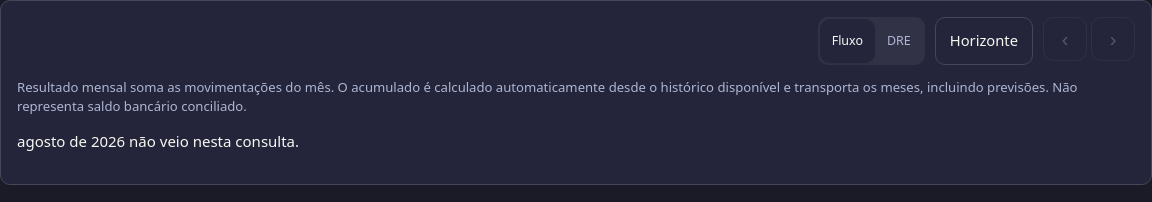
Test: nenhum fechamento mostra estado próprio sem DRE zerada ou seletor aberto
Click the button "DRE".
click(899, 41)  # box [875,19,923,63]
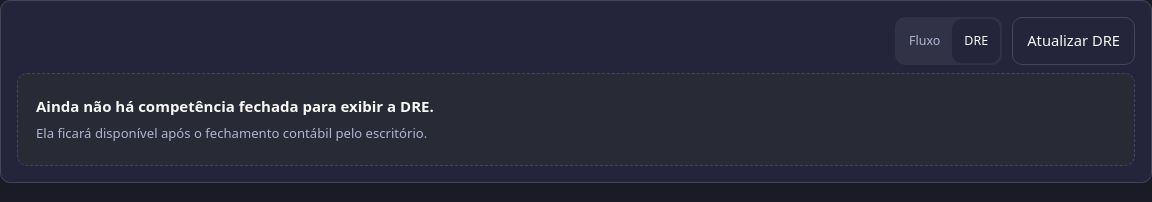
Result: the text "Ainda não há competência fechada para exibir a DRE." is shown at [36,96,434,116]
